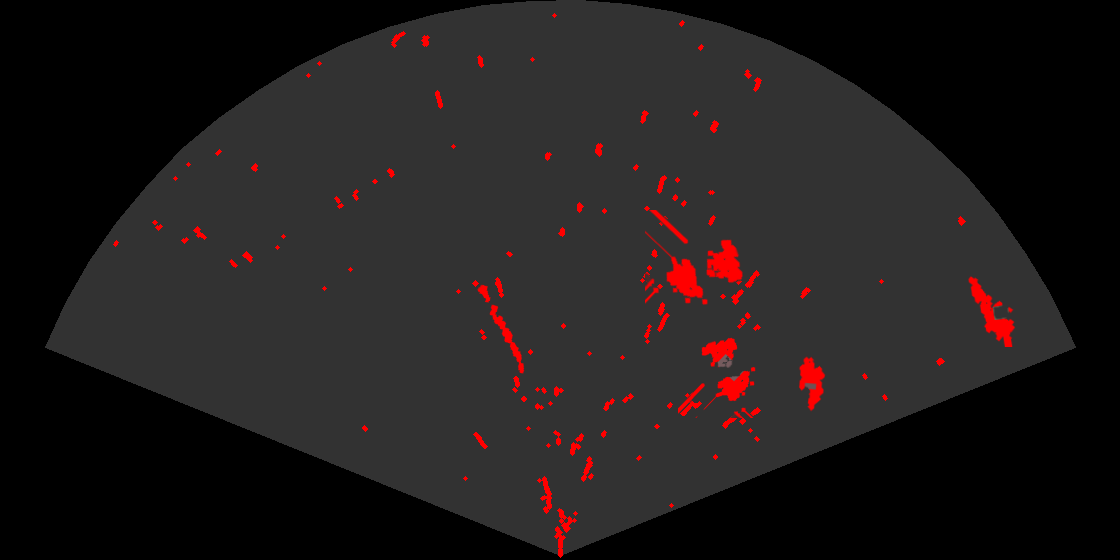AUV: (797, 355, 827, 413)
cage: (645, 210, 745, 307), (678, 336, 757, 418)
chain: (476, 283, 526, 375)
frogman: (967, 275, 1017, 347)
